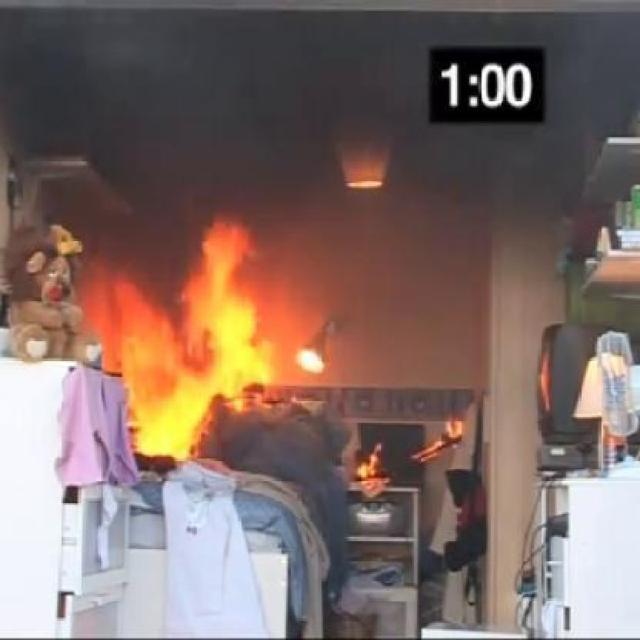smoke: (110, 210, 264, 458), (410, 420, 467, 466), (350, 440, 392, 498), (534, 338, 550, 407)
